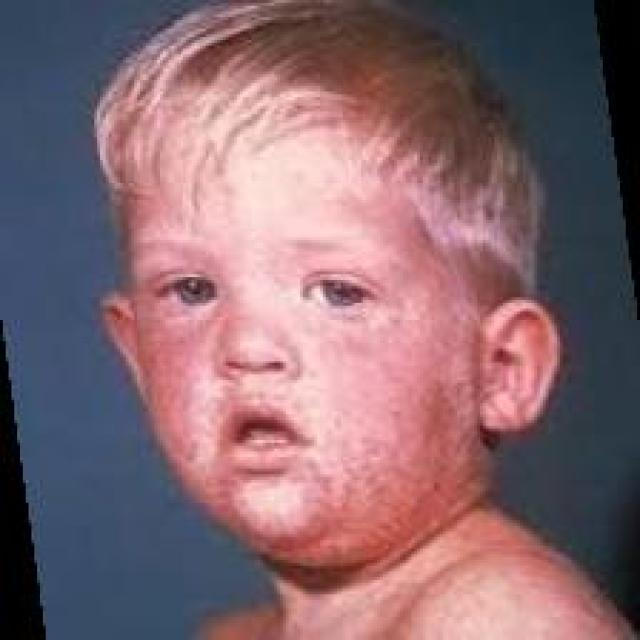others: (92, 170, 569, 640)
